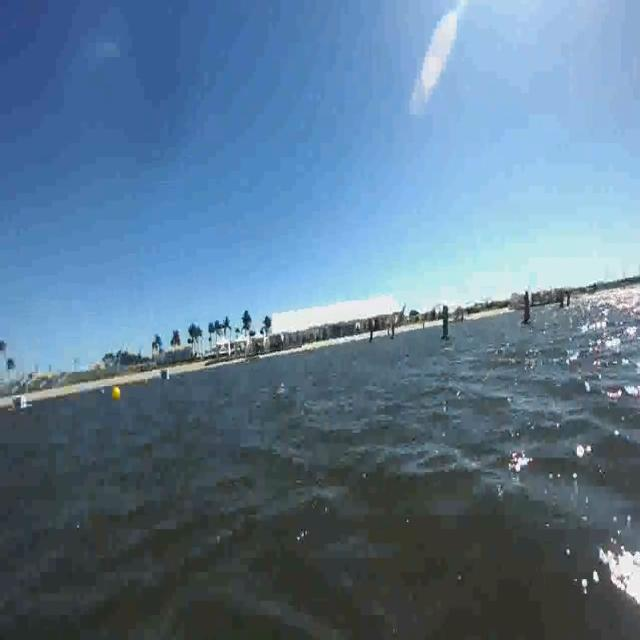green-column-buoy: (440, 304, 450, 345)
yellow-buoy: (112, 385, 121, 402)
